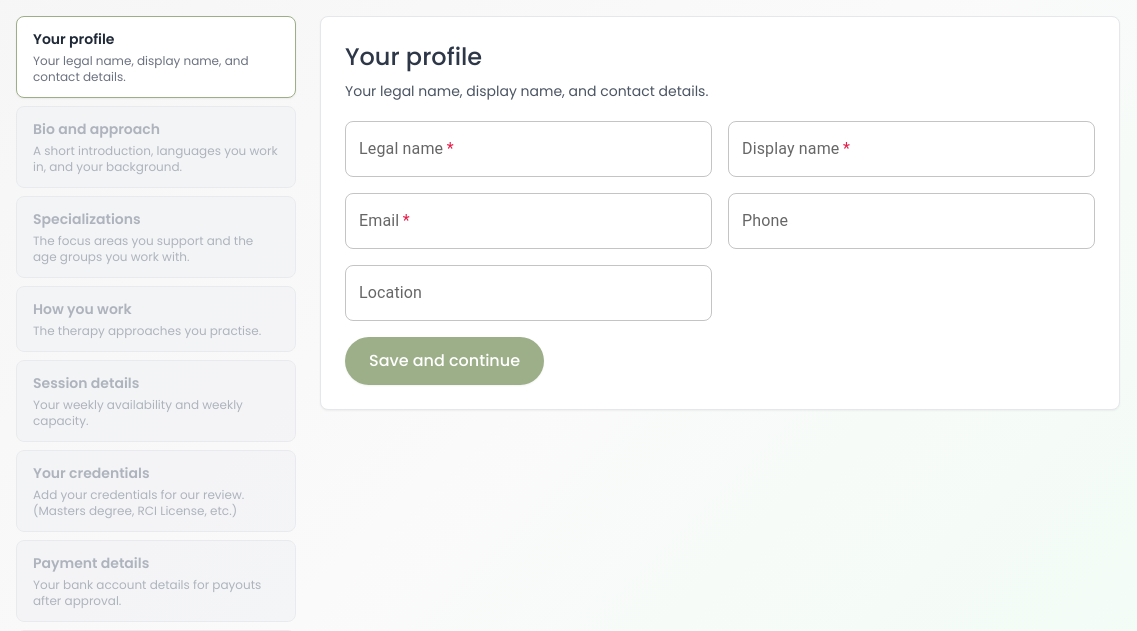
Test: provider onboarding route › validates required fields before saving and keeps future sections disabled
Expected: the button "Bio and approach" is disabled, [16,106,296,188]
Expected: the button "Specializations" is disabled, [16,196,296,278]
Click the button "Save and continue".
click(444, 361)  # box [345,337,544,385]
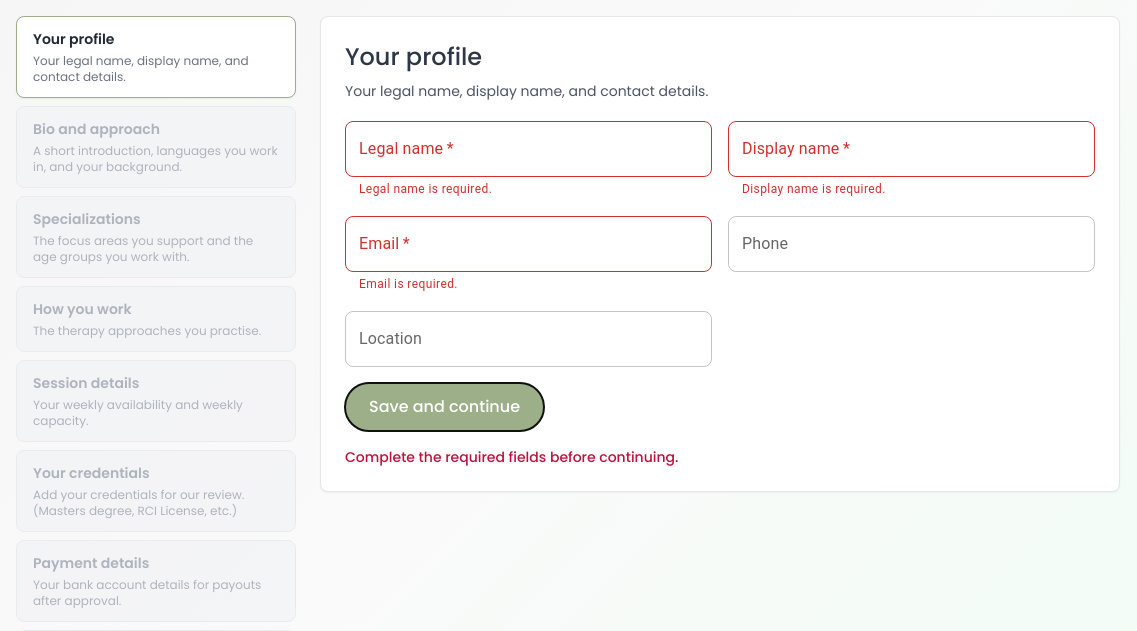
Now the text "Legal name is required." is shown, box [359,182,492,196]
